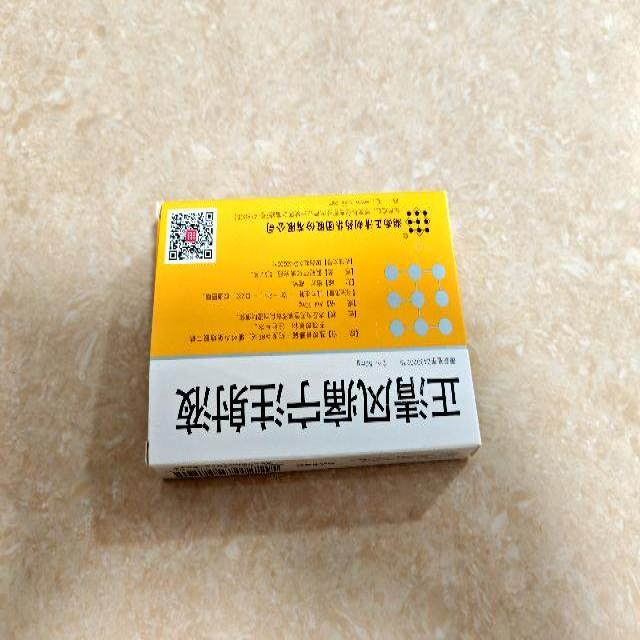box: (146, 190, 482, 480)
